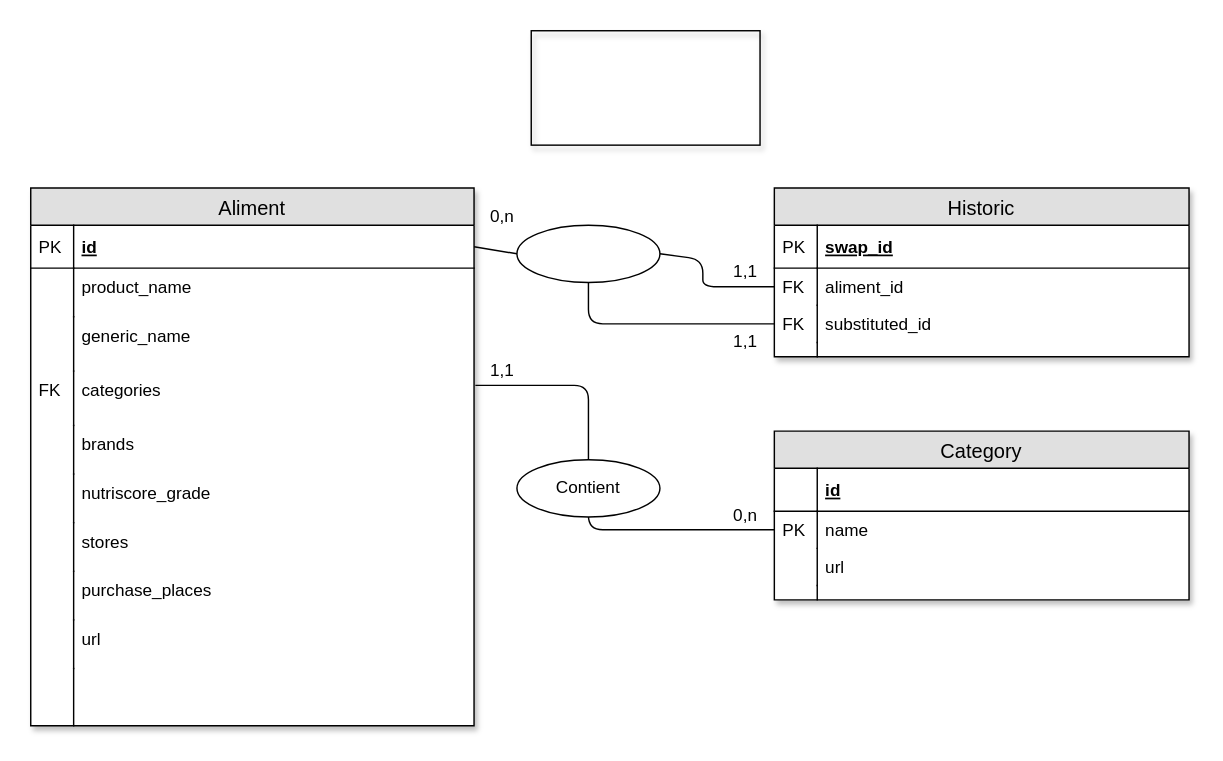
This 1223x761 diagram has some shape labels left out. The shapes that lost their labels are listed below. From the top down, each one's centre as x and y in pixels, then its label:
At (646,89): "purebeurre_db".
At (588,253): "Se trouve".
